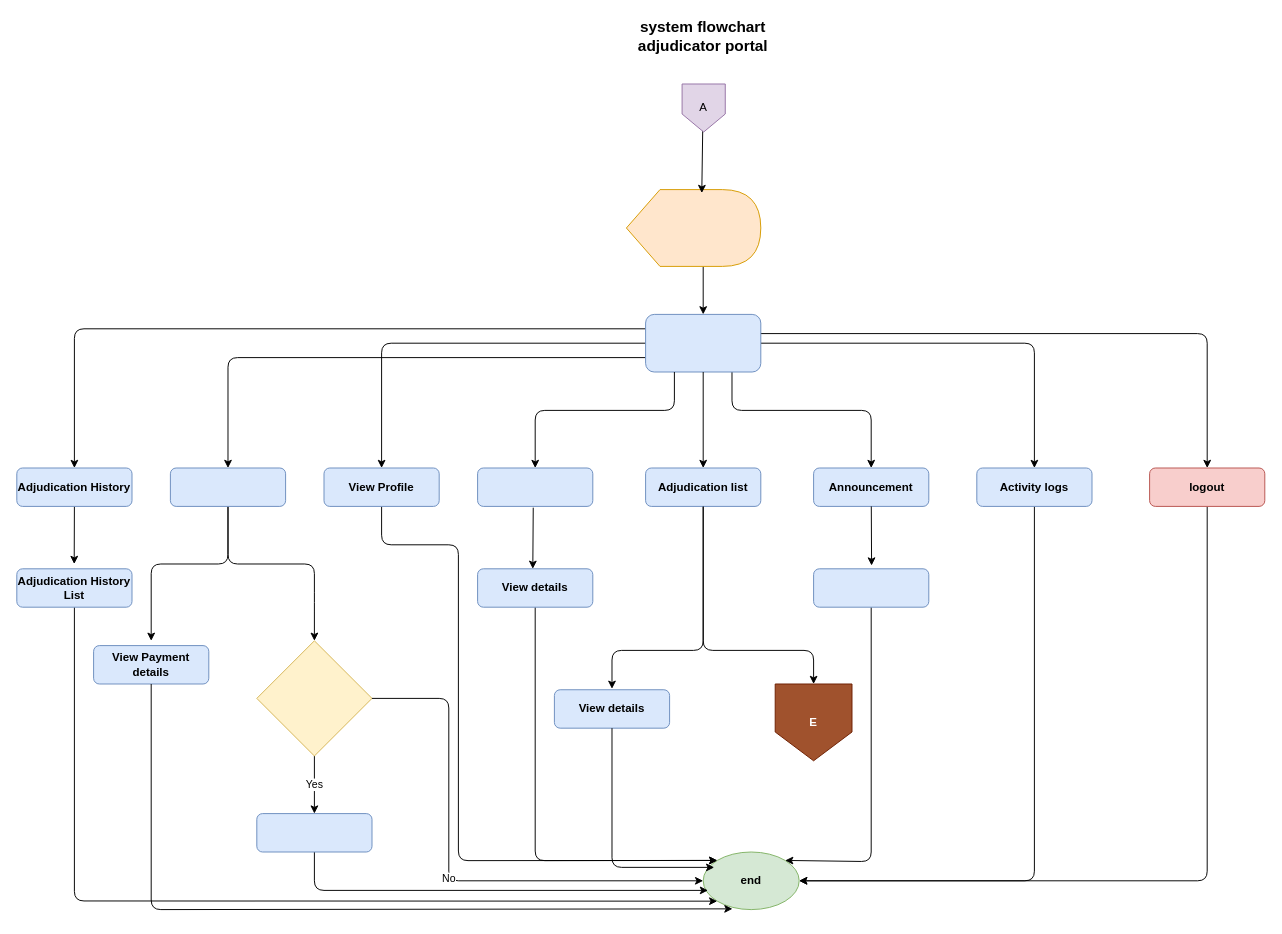
Some shapes in this 1282 by 934 pixel diagram are drawn without their labels. The centre of each missing label's shape, as x and y in pixels:
"Adjudication sidebar" goes at point (703, 342).
"Announcement List" goes at point (871, 587).
"Display of Main dashboard" goes at point (693, 227).
"Payee wants copy?" goes at point (314, 698).
"Payment records" goes at point (227, 486).
"Print temporary receipt" goes at point (314, 832).
"Violations List" goes at point (535, 486).
